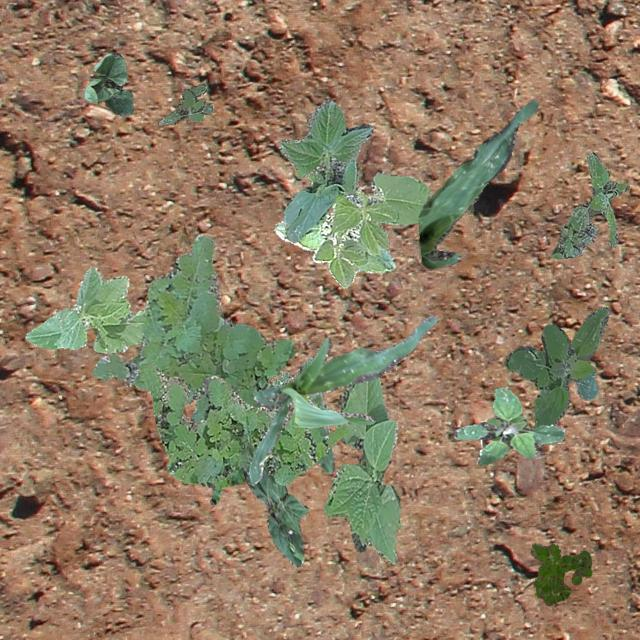crop: (248, 314, 437, 484), (417, 99, 538, 268), (274, 172, 429, 286), (322, 374, 400, 564), (278, 98, 372, 242), (24, 266, 144, 352), (241, 466, 307, 566), (298, 357, 334, 472), (84, 52, 132, 115)
weed: (92, 234, 294, 466), (142, 362, 346, 484), (503, 306, 608, 426), (454, 386, 564, 464), (550, 152, 628, 258), (528, 542, 590, 604), (156, 82, 212, 125), (200, 466, 244, 504), (264, 371, 290, 386)
